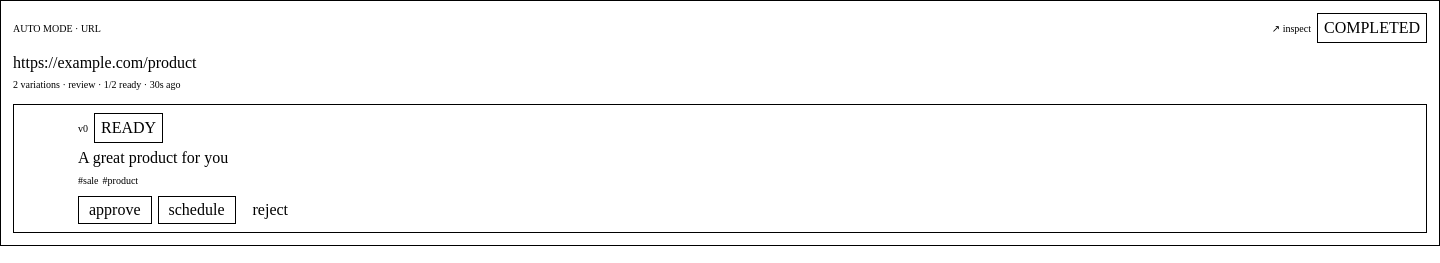
Test: AutoModePanel · approve / reject › disables both buttons while approve is in-flight
The width and height of the screenshot is (1440, 263).
Click approve but don't resolve yet
Click the button "approve" at x=115, y=210, box 78,196 -> 152,224
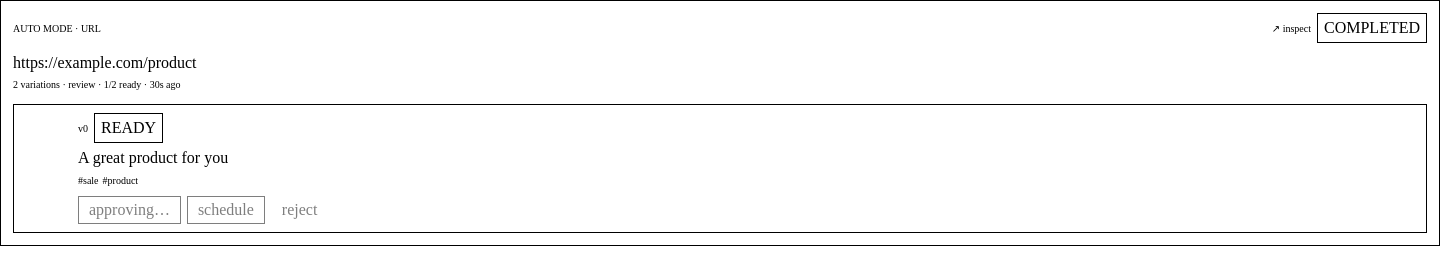
Check: the button "approving…" is disabled, box 78,196 -> 181,224
Check: the button "reject" is disabled, box 271,196 -> 328,224
